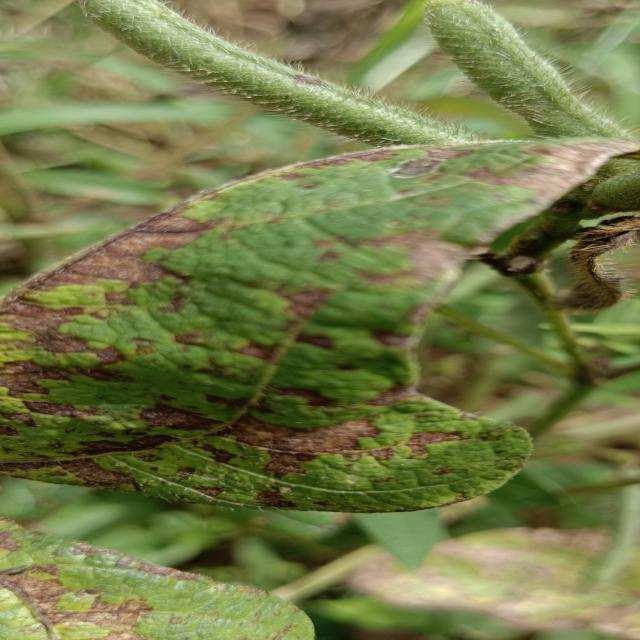Black gram_leaf spot: (0, 131, 640, 522), (1, 521, 306, 640)
